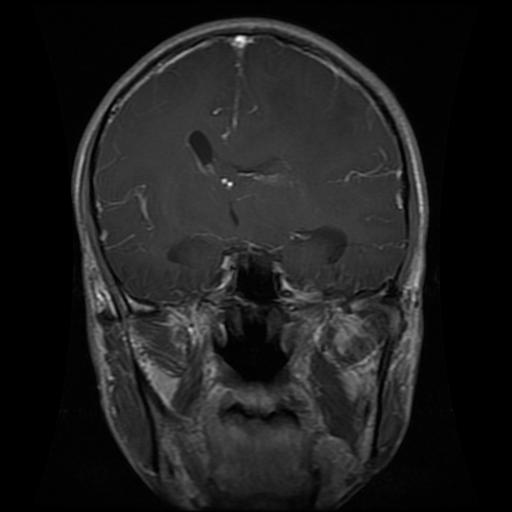Gliomia_tumour: (212, 153, 298, 189)
